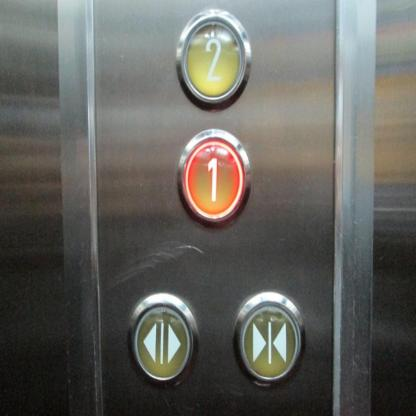1: (175, 125, 253, 230)
2: (173, 4, 253, 112)
close: (230, 288, 307, 390)
open: (125, 289, 200, 391)
